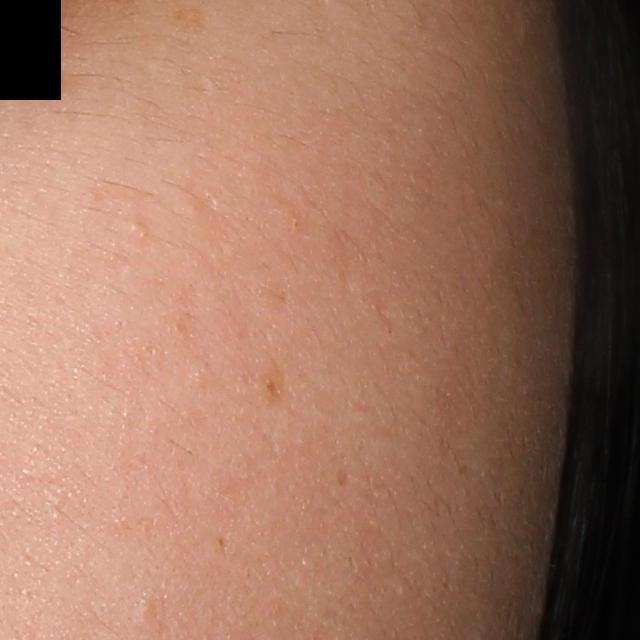comedo: (126, 216, 147, 241)
